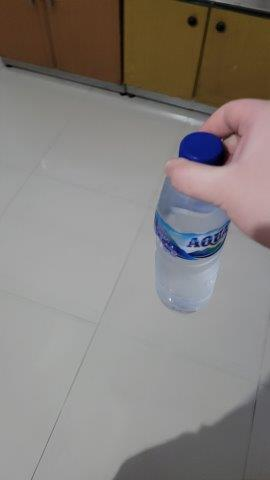botolplastik: (152, 132, 234, 316)
